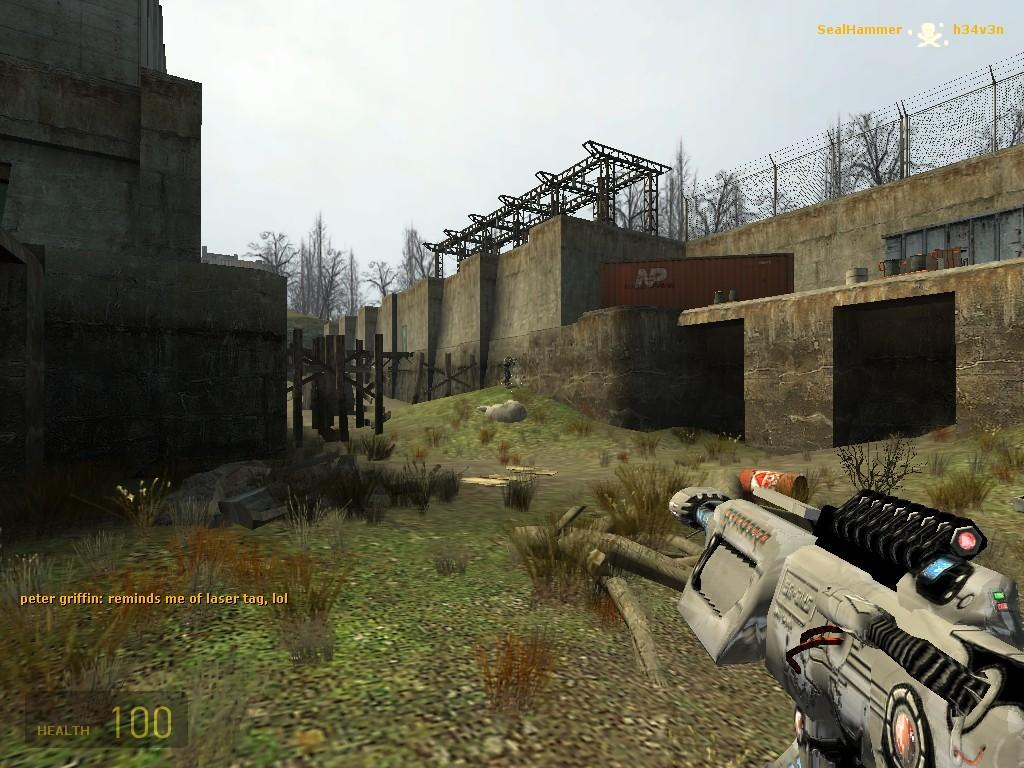Rifle: (666, 489, 1023, 767)
